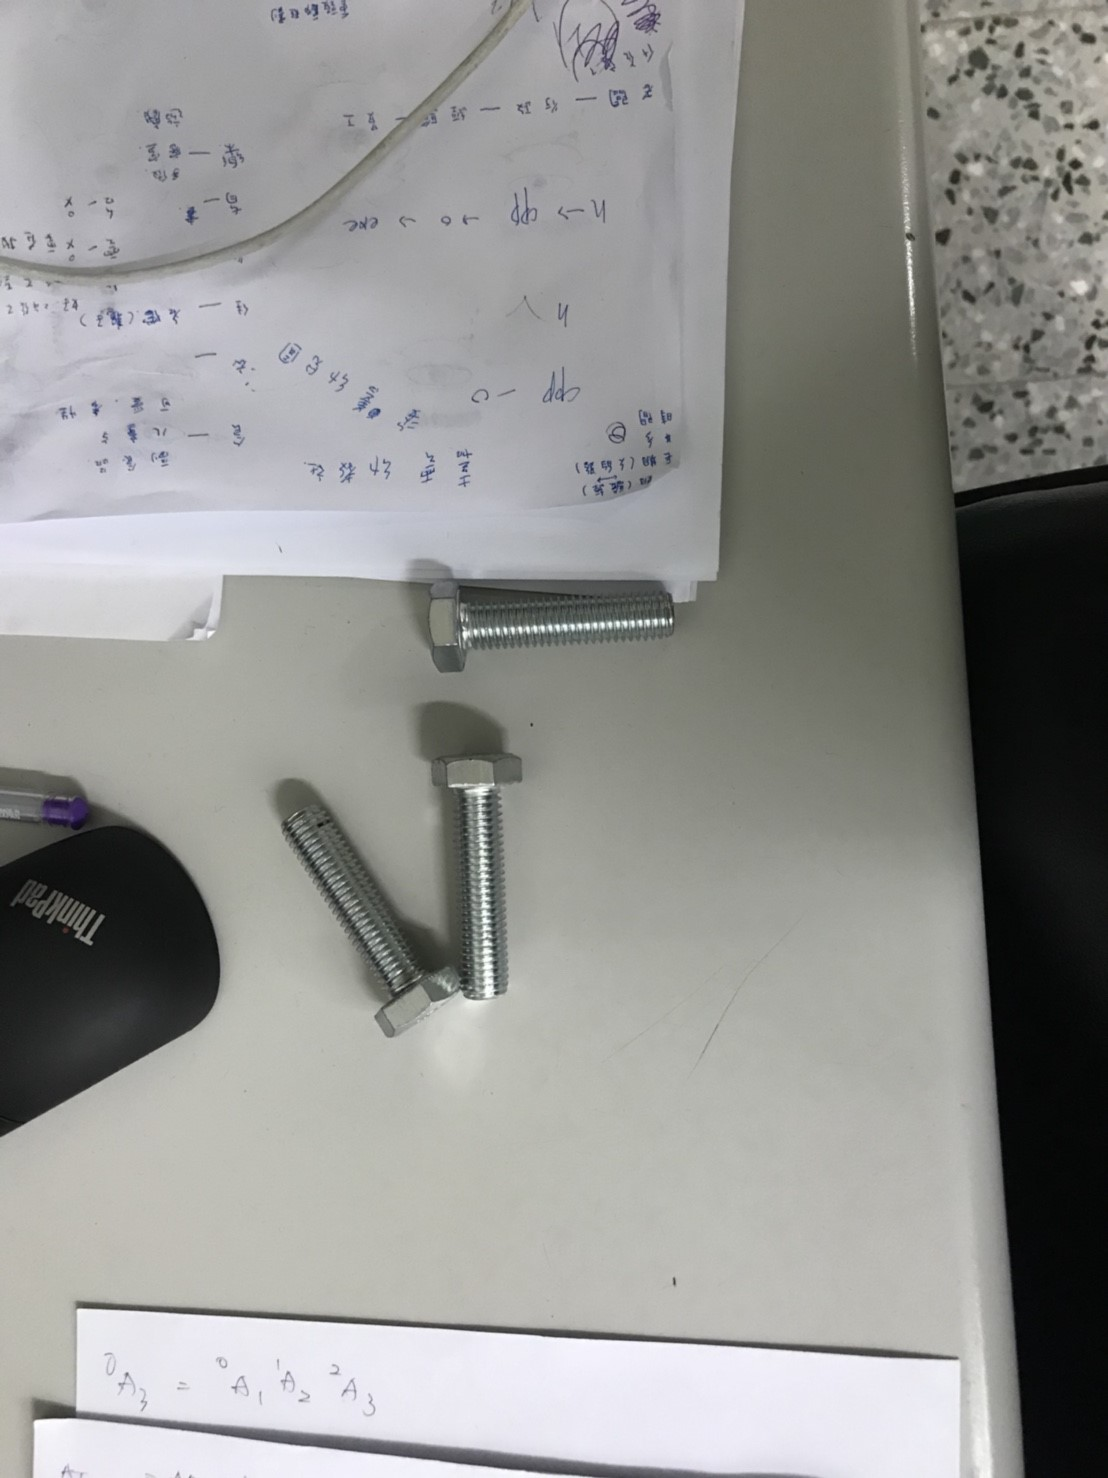screw: (270, 783, 460, 1047), (411, 564, 683, 687), (436, 729, 544, 1008)
